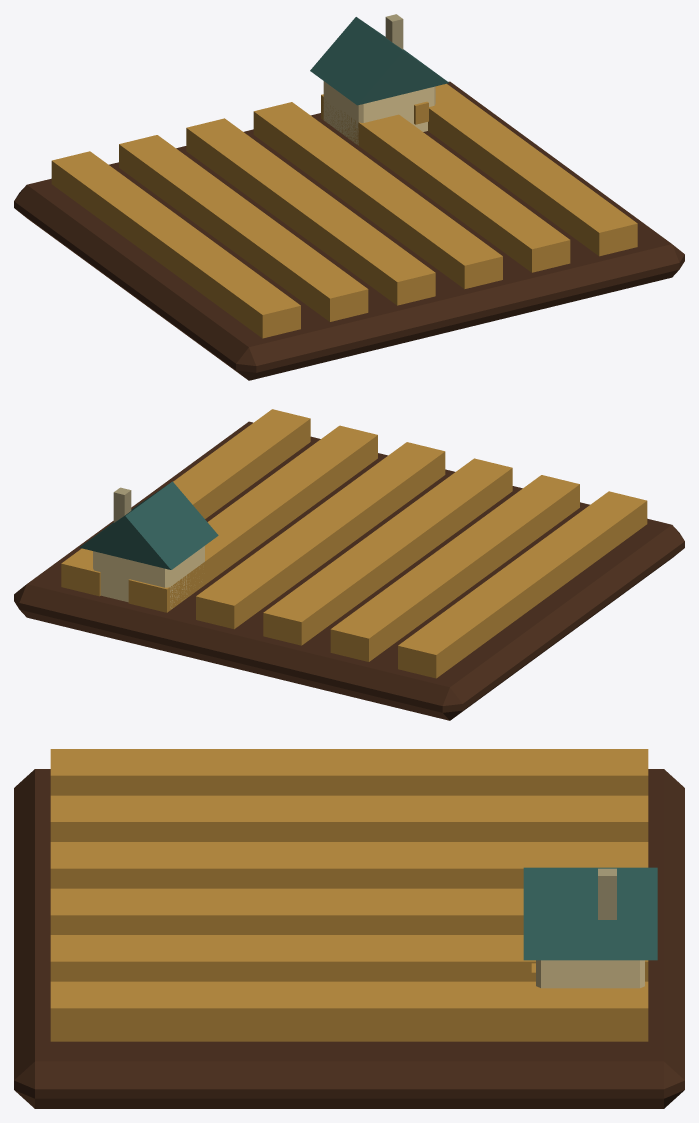
File: farm.glb
3 views of the same model, one above another, from view 1: azimuth 30°, elevation 25°; view 2: azimuth 150°, elevation 25°; view 3: azimuth 270°, elevation 25° (orthographic). The views are drawn at different scales.
Visible parts, largest first — view 1: farm; view 2: farm; view 3: farm.
Boxes of the visible parts, x1=… form: farm: x1=14, y1=14, x2=684, y2=380; farm: x1=14, y1=409, x2=684, y2=720; farm: x1=14, y1=749, x2=684, y2=1108.
Size of the model in its own units: 0.7 by 0.194 by 0.64.
